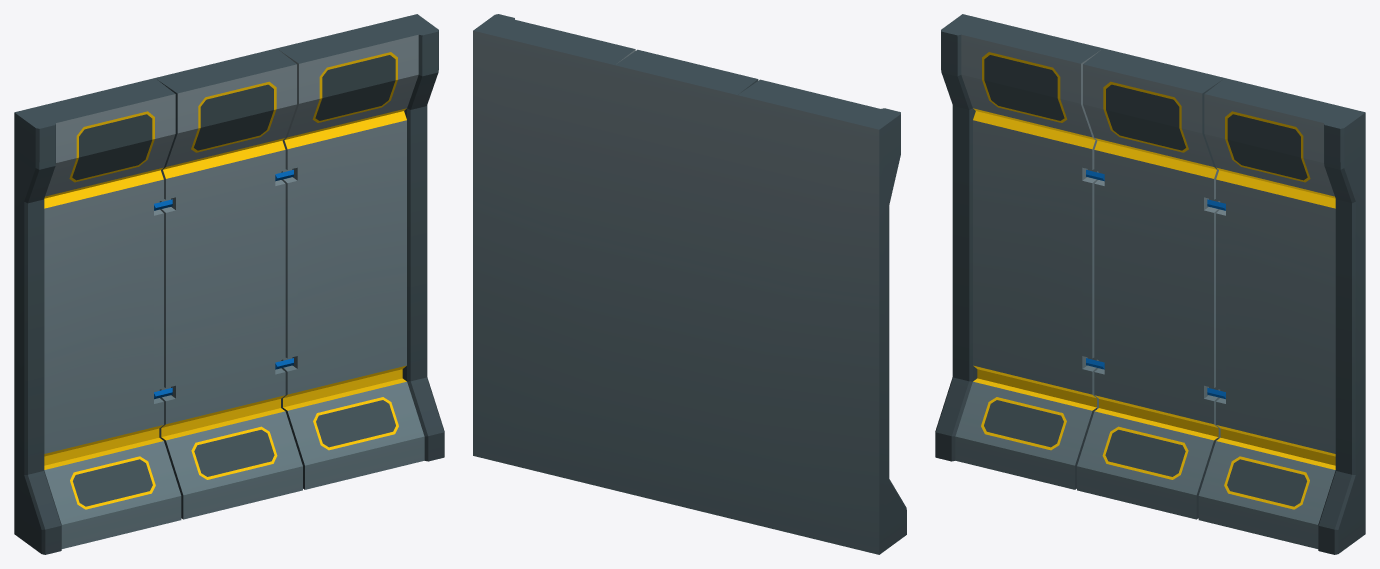
Rendered from Wall_type_C_002.fbx.
The picture shows the model from 3 angles, left to right: view 1: azimuth 30°, elevation 25°; view 2: azimuth 150°, elevation 25°; view 3: azimuth 330°, elevation 25°; orthographic projection.
Parts seen in each view (by area): view 1: Wall_type_C_002; view 2: Wall_type_C_002; view 3: Wall_type_C_002.
Part boxes in pixels (box(x1,y1,x2,y2)): Wall_type_C_002: box(14, 14, 444, 554); Wall_type_C_002: box(473, 14, 906, 554); Wall_type_C_002: box(935, 14, 1365, 554).
Size of the model in its own units: 400 by 50 by 400.
